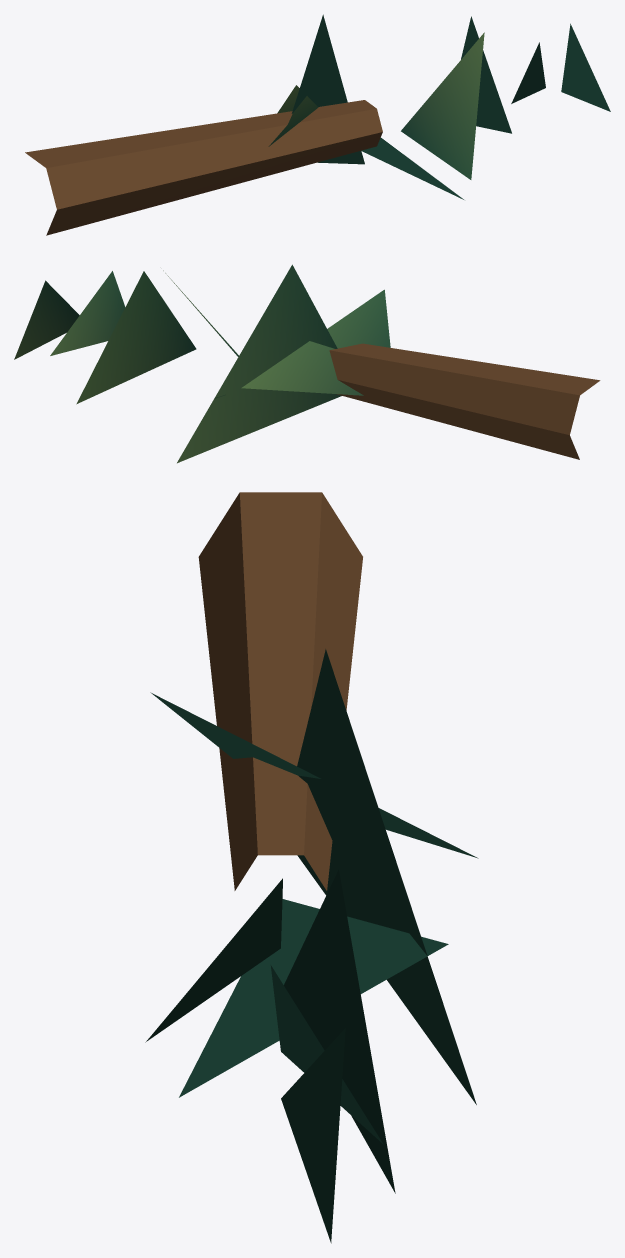
3 views of the same model, one above another, from view 1: azimuth 30°, elevation 25°; view 2: azimuth 150°, elevation 25°; view 3: azimuth 270°, elevation 25° (orthographic). The views are drawn at different scales.
Visible parts, largest first — view 1: prop_pine_fallen; view 2: prop_pine_fallen; view 3: prop_pine_fallen.
Boxes of the visible parts, bbox=[...] form: prop_pine_fallen: bbox=[25, 14, 610, 235]; prop_pine_fallen: bbox=[14, 264, 600, 463]; prop_pine_fallen: bbox=[145, 492, 478, 1243].
Size of the model in its own units: 7.07 by 2.28 by 1.82.
